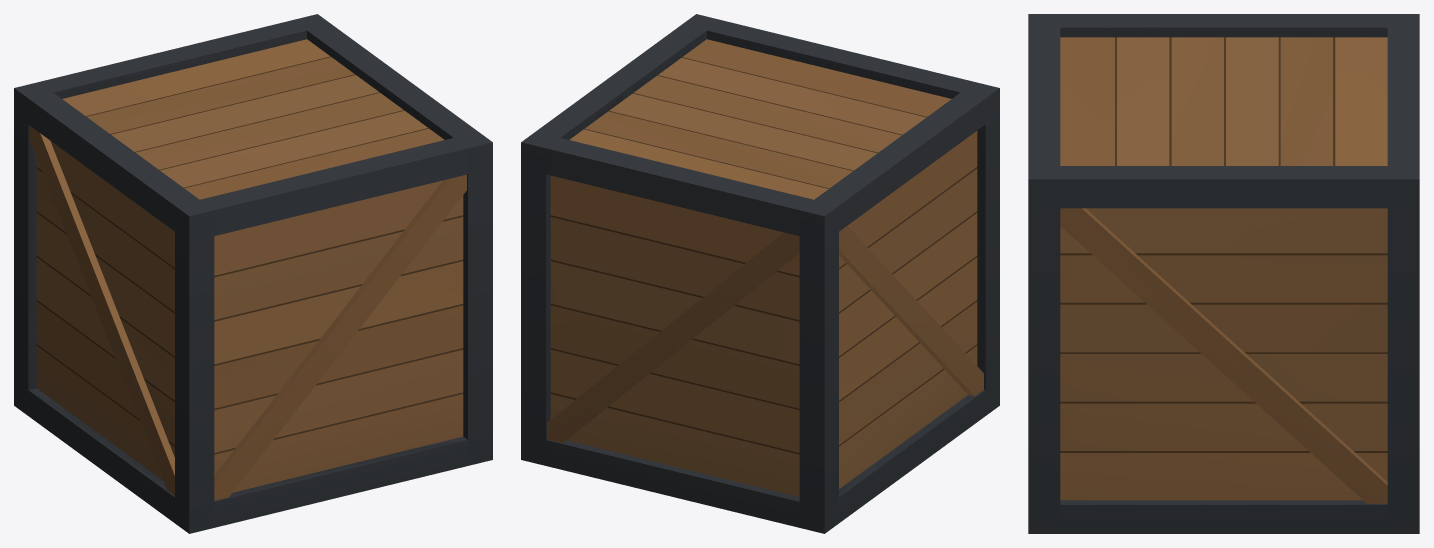
The model's file is crate.framed.graphite.glb.
3 renders of one model, left to right at view 1: azimuth 30°, elevation 25°; view 2: azimuth 150°, elevation 25°; view 3: azimuth 270°, elevation 25°, orthographic. The views are drawn at different scales.
Visible parts, largest first — view 1: crate_framed_graphite; view 2: crate_framed_graphite; view 3: crate_framed_graphite.
Part boxes in pixels (bbox=[...]): crate_framed_graphite: bbox=[14, 14, 492, 533]; crate_framed_graphite: bbox=[521, 14, 999, 533]; crate_framed_graphite: bbox=[1028, 14, 1419, 533].
Size of what is drawn, in the model's own units: 1.1 by 1.1 by 1.1.
